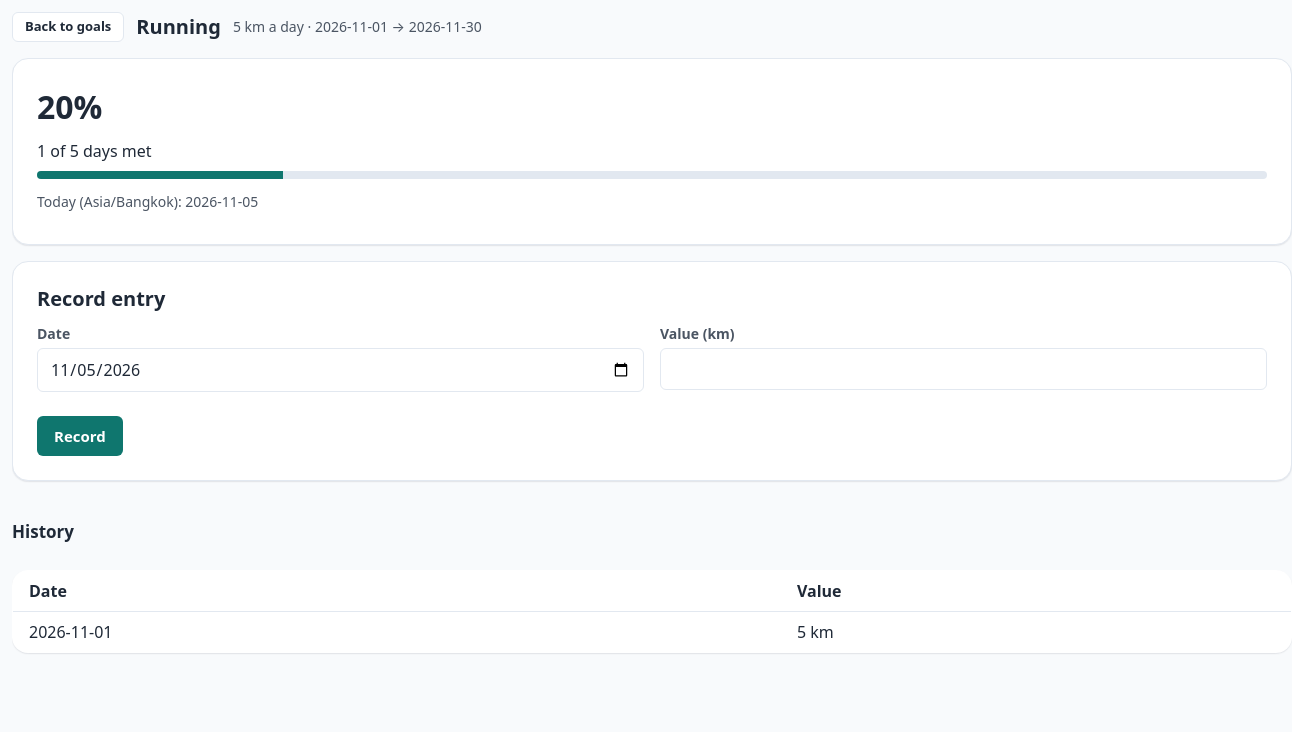
AC-04.21 server errors › TEST-04.21a shows a 409 duplicate message verbatim, keeps the form and leaves the history unchanged
Expected: the text "1 of 5 days met" is shown, [37,140,152,162]
Step 1. Type "2026-11-01" into the date field labelled "Date" → (340, 370), box [37,348,644,392]
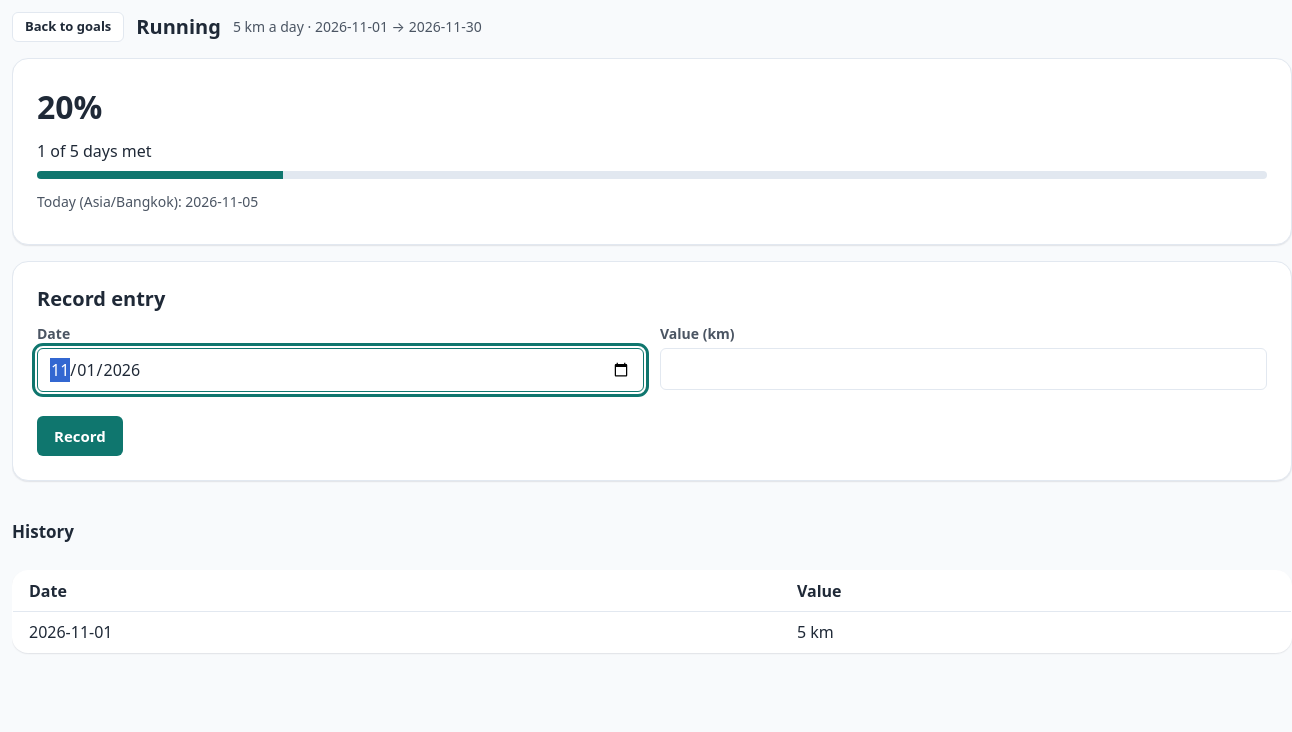
Step 2. Type "4" into the number field labelled "Value (km)" → (964, 368), box [660,348,1267,390]
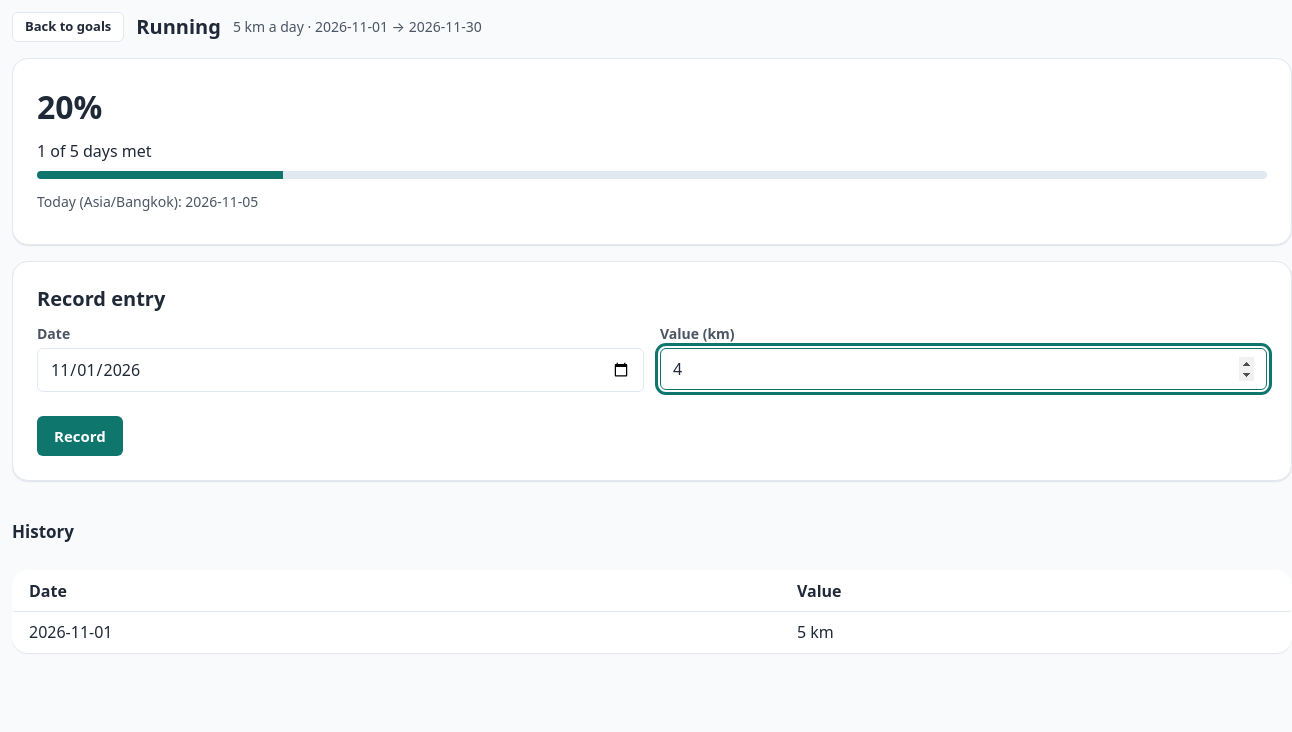
Step 3. Click the button "Record" → (80, 436), box [37,416,123,456]
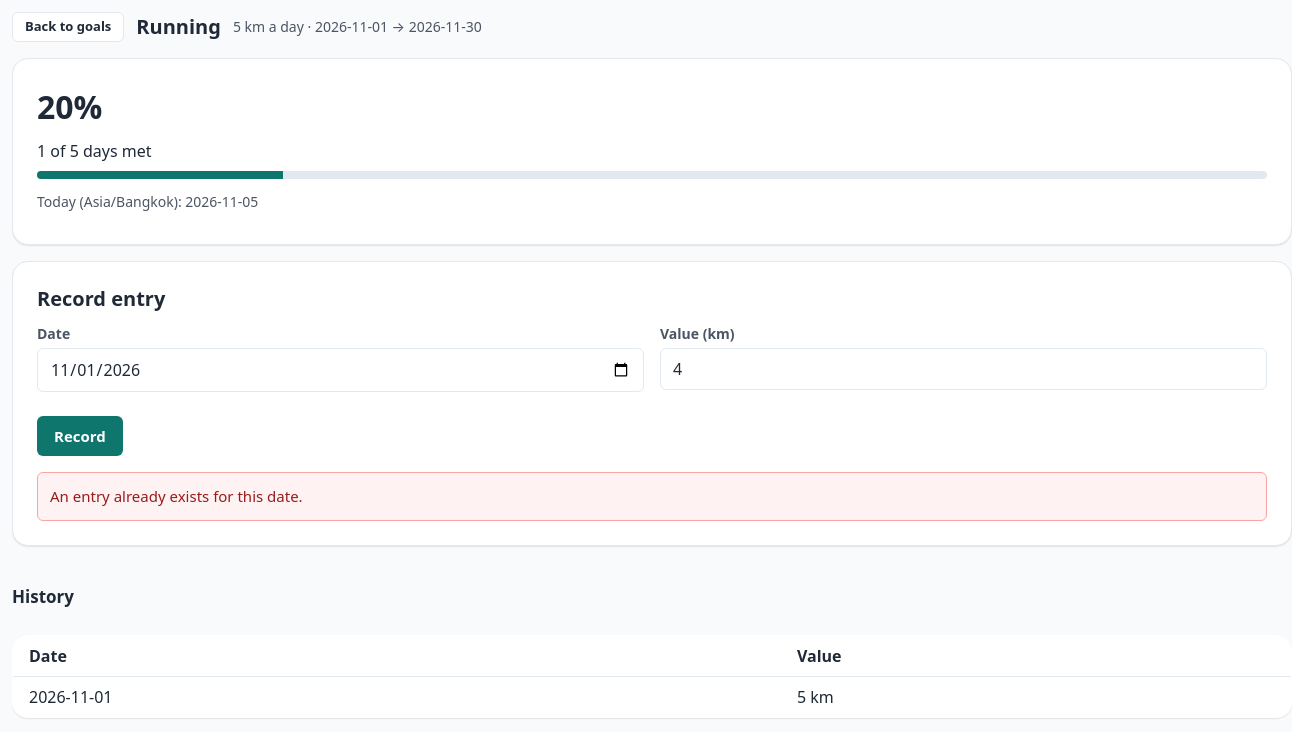
Result: the text "An entry already exists for this date." is shown at [37,472,1267,520]
